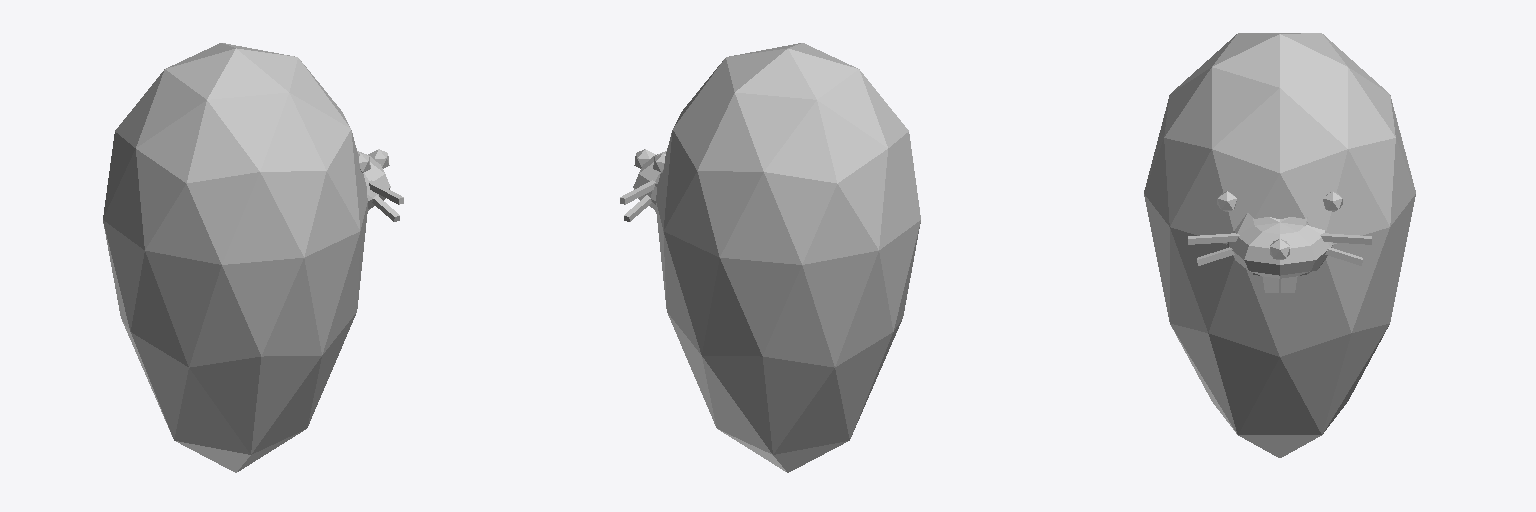
Rendered from topo.obj.
The picture shows the model from 3 angles: view 1: azimuth 30°, elevation 25°; view 2: azimuth 150°, elevation 25°; view 3: azimuth 270°, elevation 25°; orthographic projection.
Visible parts, largest first — view 1: Icosphere, Icosphere.001; view 2: Icosphere, Icosphere.001; view 3: Icosphere, Icosphere.001.
Part boxes in pixels (bbox=[...]): Icosphere: bbox=[103, 43, 390, 472]; Icosphere.001: bbox=[358, 153, 403, 221]; Icosphere: bbox=[633, 43, 920, 472]; Icosphere.001: bbox=[620, 153, 665, 221]; Icosphere: bbox=[1144, 33, 1415, 457]; Icosphere.001: bbox=[1188, 191, 1371, 265].
Size of the model in its own units: 1.74 by 2.67 by 1.55.